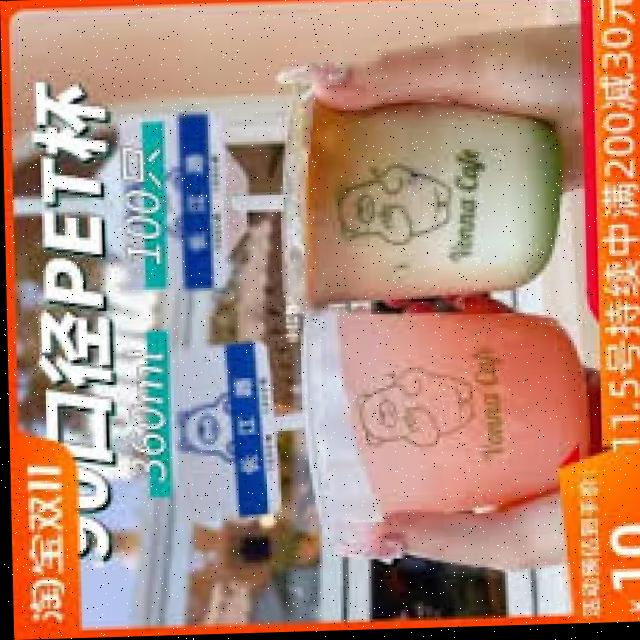cup: (304, 318, 597, 571), (285, 102, 557, 308)
